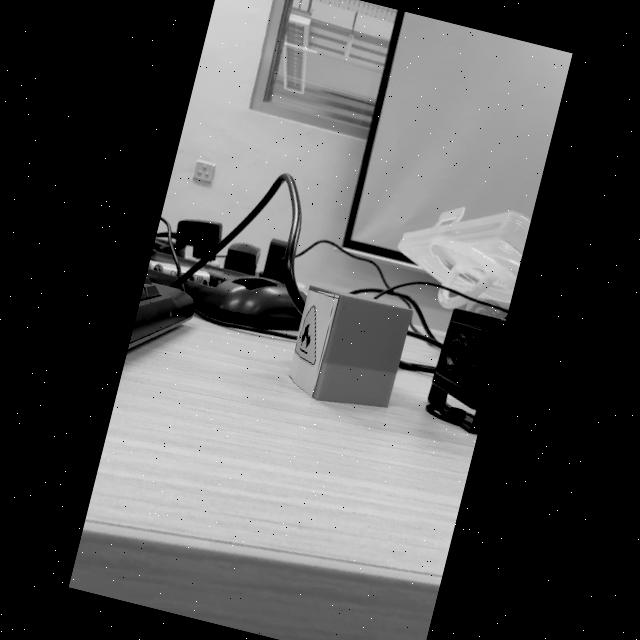Fire: (294, 306, 315, 364)
